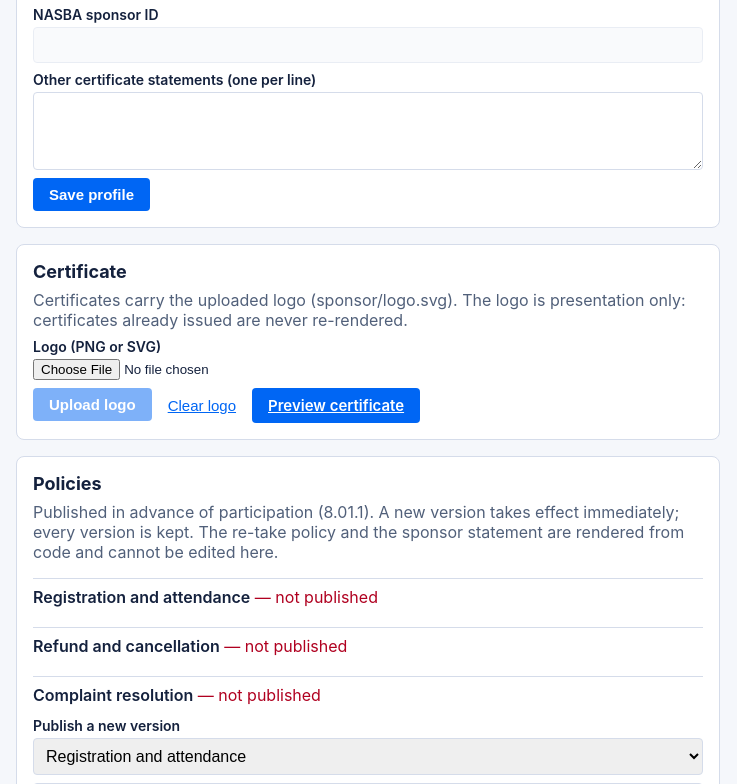
Test: AdminSponsor: the certificate card (032) › clears the logo through the logo route
The image size is (737, 784).
(page scrolled)
Click the button "Clear logo". click: x=202, y=406
box: [168,397,236,414]
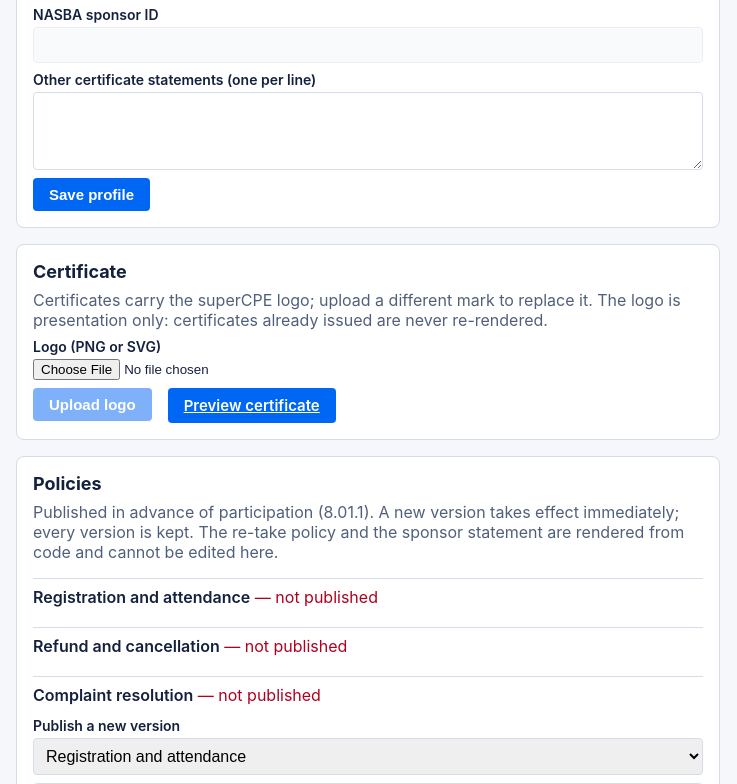
Result: the text "superCPE logo" is shown at [33,290,593,310]
